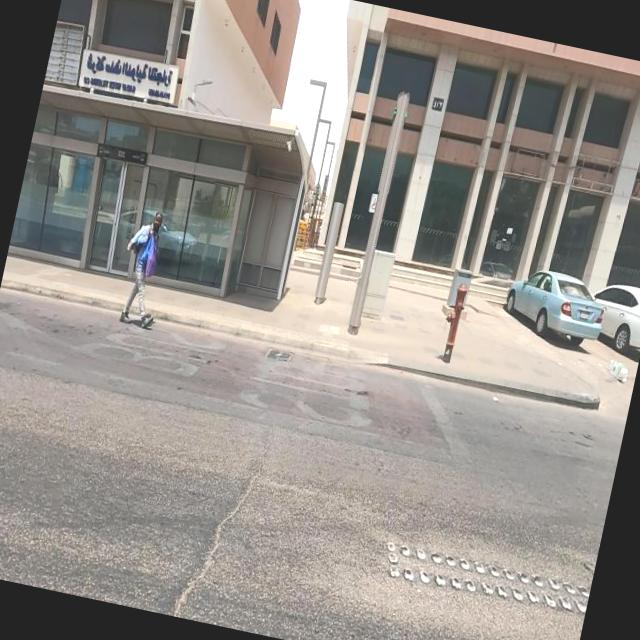debris: (584, 322, 640, 409)
